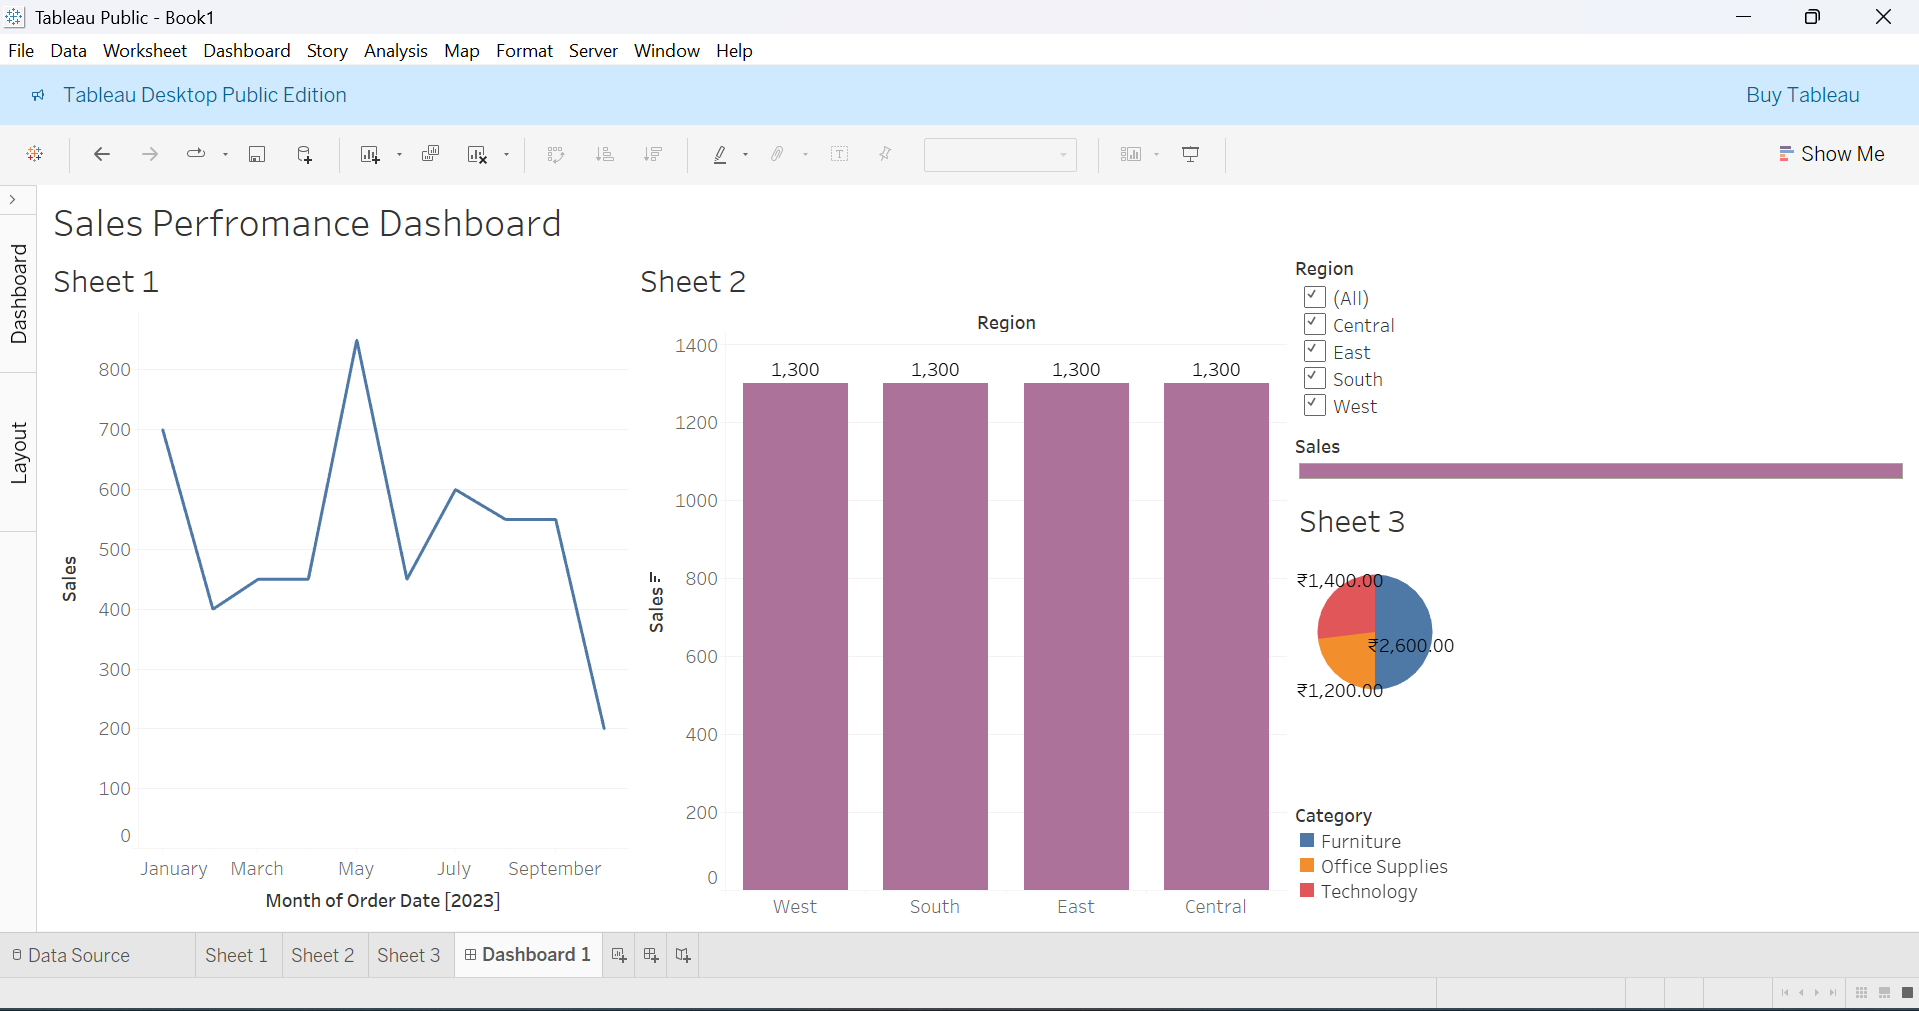

What the dashboard file says about the page in this screenshot:
{"tool":"tableau","page":{"name":"Dashboard 1","canvas":[1000,1000],"units":"permille","ordinal":0},"visuals":[{"type":"title","box":[4.9,10.7,990.1,64.3]},{"type":"worksheet","title":"Sheet 1","mark":"Line","rows":["Sales"],"cols":["Order Date"],"box":[4.9,75.1,286.1,914.2]},{"type":"worksheet","title":"Sheet 2","mark":"Automatic","rows":["Sales"],"cols":["Region"],"box":[291,75.1,321.1,914.2]},{"type":"filter","title":"Sheet 2","param":"[federated.0m1401z1cy321g1cphrhd0sgkypn].[none:Region:nk]","box":[612.1,75.1,382.9,238.6]},{"type":"legend","title":"Sheet 2","param":"[federated.0m1401z1cy321g1cphrhd0sgkypn].[sum:Sales:qk]","box":[612.1,313.7,382.9,83.1]},{"type":"worksheet","title":"Sheet 3","mark":"Pie","box":[612.1,396.8,382.9,411.5]},{"type":"legend","title":"Sheet 3","param":"[federated.0m1401z1cy321g1cphrhd0sgkypn].[none:Category:nk]","box":[612.1,808.3,382.9,146.1]}]}

Visuals, with their boxes on the dashboard's canvas, which has no fixed pixel size, in thousandths of its width and height (x1, y1, x2, y2). These are canvas units, not pixel positions in the 1919x1011 screenshot, which may show the page scaled, cropped or inside an application window:
title: [left=5, top=11, right=995, bottom=75]
"Sheet 1" worksheet (Line marks): [left=5, top=75, right=291, bottom=989]
"Sheet 2" worksheet: [left=291, top=75, right=612, bottom=989]
"Sheet 2" filter: [left=612, top=75, right=995, bottom=314]
"Sheet 2" legend: [left=612, top=314, right=995, bottom=397]
"Sheet 3" worksheet (Pie marks): [left=612, top=397, right=995, bottom=808]
"Sheet 3" legend: [left=612, top=808, right=995, bottom=954]
